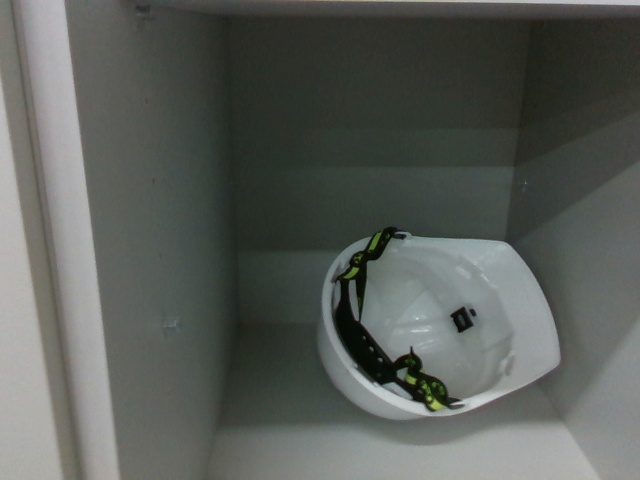helmet: (317, 228, 565, 427)
